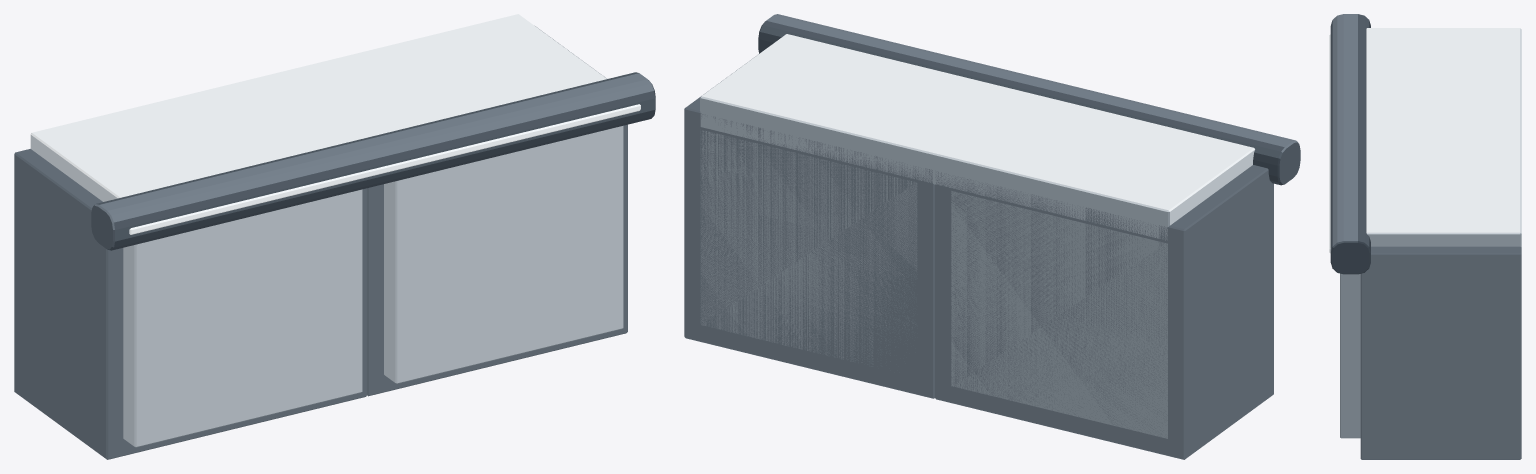
Rendered from Terrain_TopRun2LR.gltf.
3 views of the same model, side by side, from view 1: azimuth 30°, elevation 25°; view 2: azimuth 150°, elevation 25°; view 3: azimuth 270°, elevation 25° (orthographic). The views are drawn at different scales.
Visible parts, largest first — view 1: Terrain_TopRun2LR_baked; view 2: Terrain_TopRun2LR_baked; view 3: Terrain_TopRun2LR_baked.
Part boxes in pixels (x1,y1,x2,y2): Terrain_TopRun2LR_baked: (14, 14, 655, 459); Terrain_TopRun2LR_baked: (684, 14, 1300, 459); Terrain_TopRun2LR_baked: (1329, 14, 1521, 459).
Bounding box in the file's own units: 2.08 × 0.9495 × 0.74.
